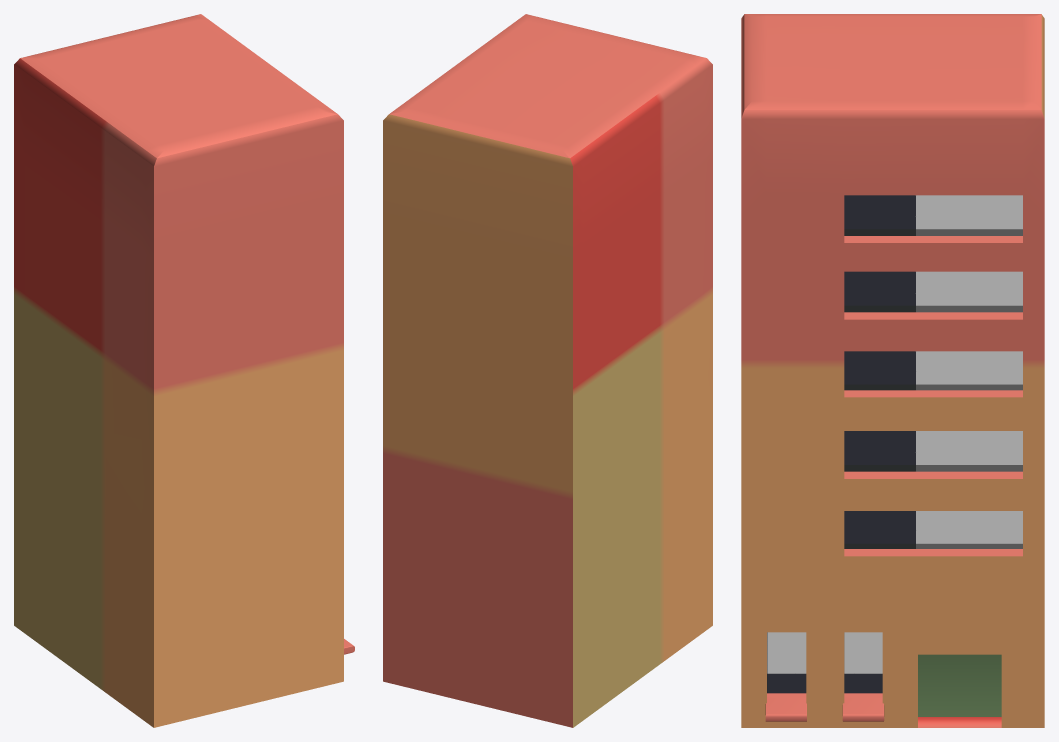
File: BuildingTall_03C.fbx
3 renders of one model, left to right at view 1: azimuth 30°, elevation 25°; view 2: azimuth 150°, elevation 25°; view 3: azimuth 270°, elevation 25°, orthographic. The views are drawn at different scales.
Visible parts, largest first — view 1: polySurface1080; view 2: polySurface1080; view 3: polySurface1080.
Part boxes in pixels (x1=…): polySurface1080: x1=14, y1=14, x2=354, y2=727; polySurface1080: x1=383, y1=14, x2=712, y2=727; polySurface1080: x1=741, y1=14, x2=1044, y2=727.
Bounding box in the file's own units: 4.57 × 11.7 × 5.2.
